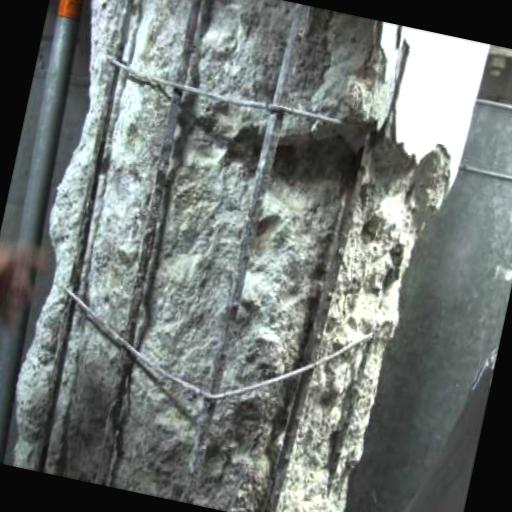spalling: (12, 0, 449, 512)
